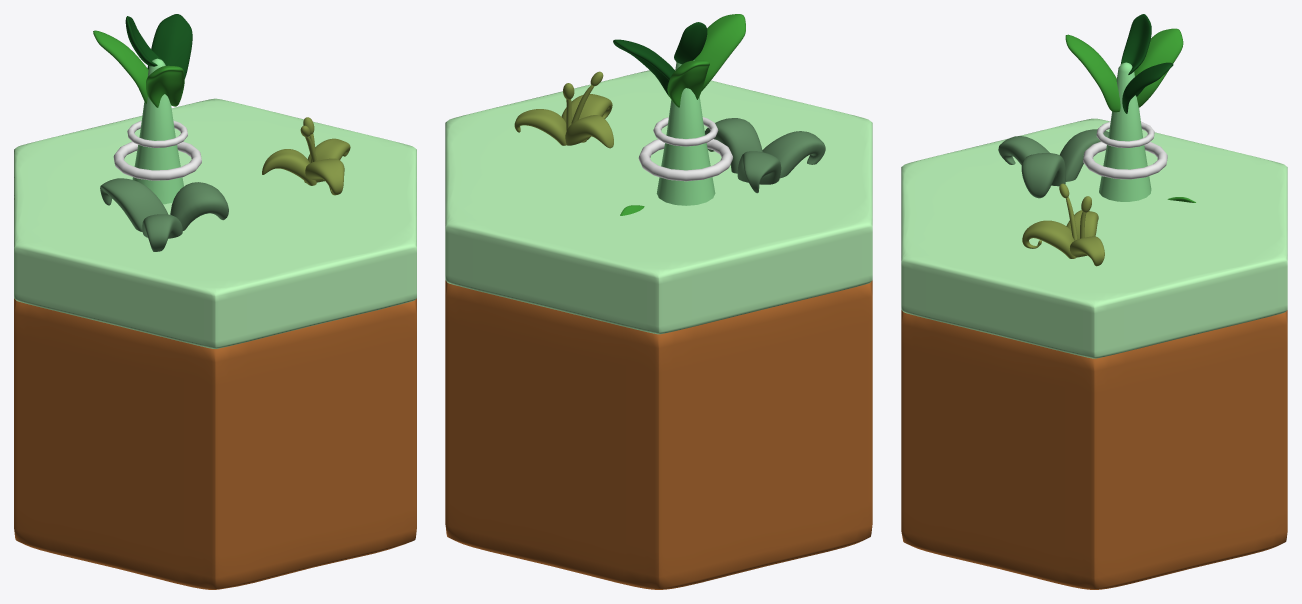
The model's file is dzqdqzdqzdzq.fbx.
The picture shows the model from 3 angles, left to right: view 1: azimuth 30°, elevation 25°; view 2: azimuth 150°, elevation 25°; view 3: azimuth 270°, elevation 25°; orthographic projection. The views are drawn at different scales.
Visible parts, largest first — view 1: Plane.029; view 2: Plane.029; view 3: Plane.029.
Part boxes in pixels (bbox=[...]): Plane.029: bbox=[14, 14, 416, 589]; Plane.029: bbox=[445, 14, 872, 589]; Plane.029: bbox=[901, 14, 1287, 589].
Size of the model in its own units: 826 by 984 by 717.
